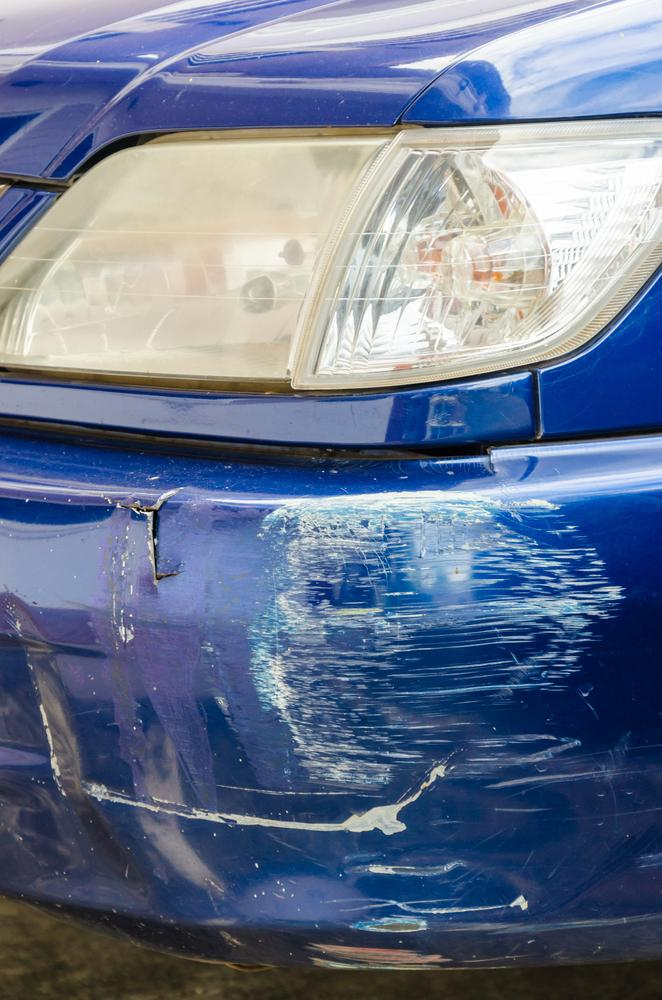crack: (100, 489, 188, 586)
dent: (242, 783, 586, 931)
scratch: (242, 485, 631, 803), (81, 778, 279, 839)
